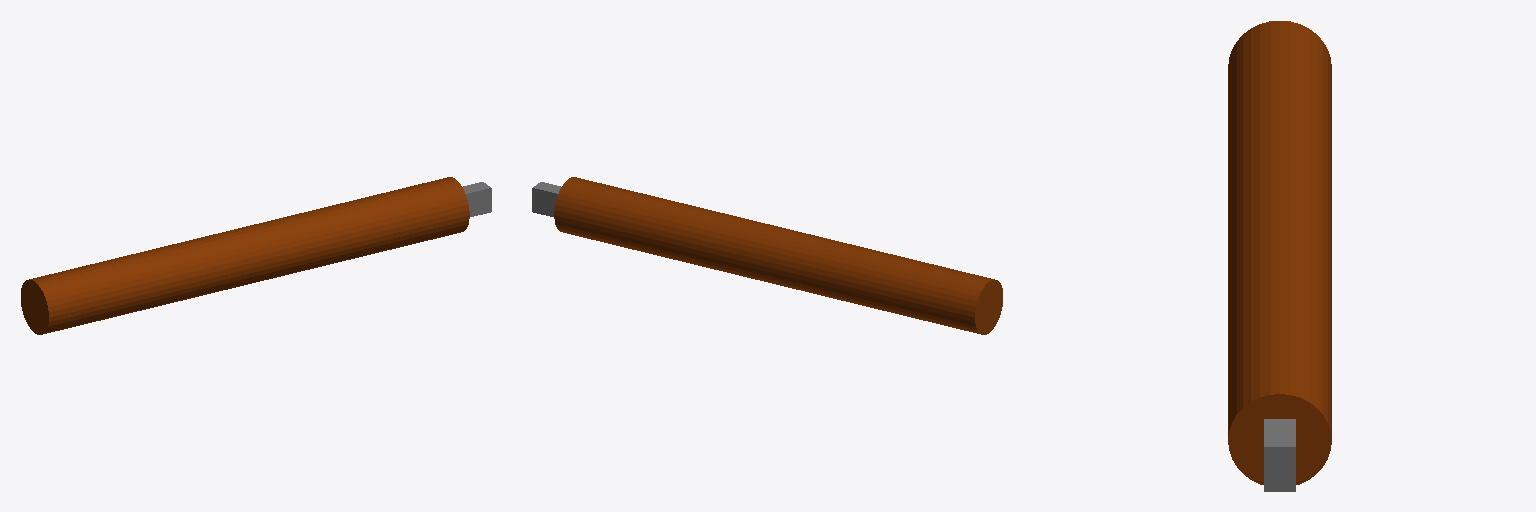
URDF robot description (handle_head):
<?xml version="1.0"?>
<robot name="handle_head">

  <link name="handle_head">
    <!-- Handle -->
    <visual>
              <origin xyz="0 0 0" rpy="0 -1.5707963267948966 0"/>
        <geometry>
          <cylinder length="0.14891653213877873" radius="0.008743294974999486"/>
        </geometry>
        
      <material name="brown">
        <color rgba="0.55 0.27 0.07 1.0"/>
      </material>
    </visual>
    <collision>
              <origin xyz="0 0 0" rpy="0 -1.5707963267948966 0"/>
        <geometry>
          <cylinder length="0.14891653213877873" radius="0.008743294974999486"/>
        </geometry>
        
    </collision>

    <!-- Head -->
    <visual>
              <origin xyz="0.08008602380697409 0 0" rpy="0 0 0"/>
        <geometry>
          <box size="0.011255515475169462 0.005230223748263828 0.00829885457045897"/>
        </geometry>
        
      <material name="gray">
        <color rgba="0.5 0.5 0.5 1.0"/>
      </material>
    </visual>
    <collision>
              <origin xyz="0.08008602380697409 0 0" rpy="0 0 0"/>
        <geometry>
          <box size="0.011255515475169462 0.005230223748263828 0.00829885457045897"/>
        </geometry>
        
    </collision>

    <inertial>
      <origin xyz="0.0007120560058355838 0 0" rpy="0 0 0"/>
      <mass value="0.02078730524583284"/>
      <inertia ixx="7.775283318138231e-07" iyy="4.592100728945925e-05" izz="4.5920367867976756e-05" ixy="0" ixz="0" iyz="0"/>
    </inertial>
  </link>

</robot>

--- What the picture shows (computed from the rendered views, not written in the file) ---
The picture shows the robot from 3 angles, left to right: view 1: azimuth 30°, elevation 25°; view 2: azimuth 150°, elevation 25°; view 3: azimuth 270°, elevation 25°; orthographic projection.
Robot: handle_head — 1 links, 0 joints (none); root link handle_head; default pose: all joints at 0.
Visible links, largest first — view 1: handle_head; view 2: handle_head; view 3: handle_head.
Link boxes in pixels (x1,y1,x2,y2): handle_head: (21, 177, 491, 334); handle_head: (532, 177, 1002, 334); handle_head: (1228, 21, 1331, 491).
Size in the robot's own frame: 0.1602 by 0.0175 by 0.0175 metres.
Geometry: primitives only (box / cylinder / sphere), no mesh files.
